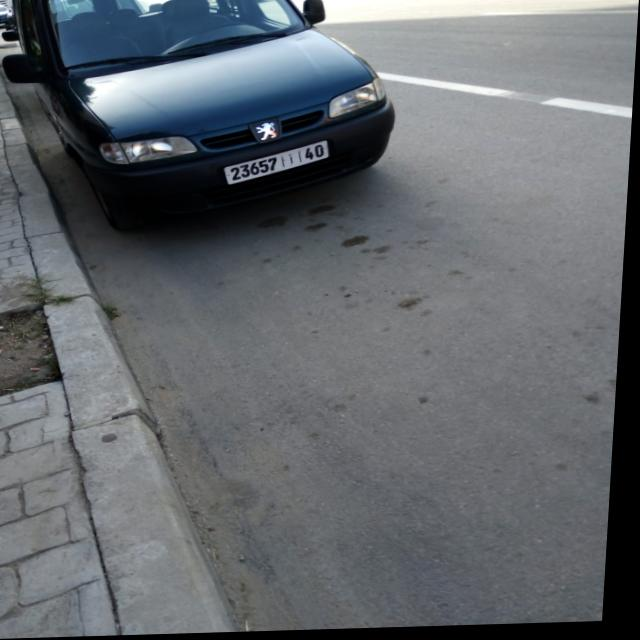License-Plate: (227, 142, 331, 185)
